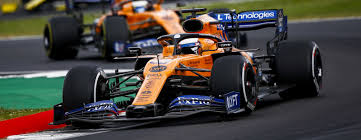FormulaOneCar: (59, 6, 327, 126), (34, 1, 225, 62)
